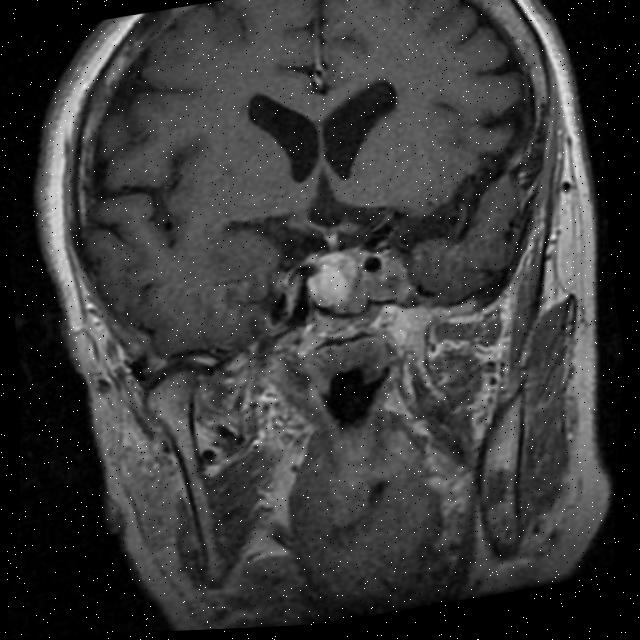Pituitary: (299, 239, 375, 323)
